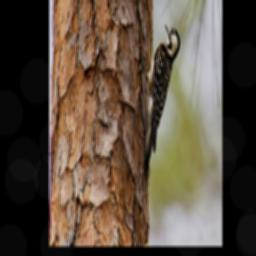Woodpecker: (138, 24, 180, 190)
